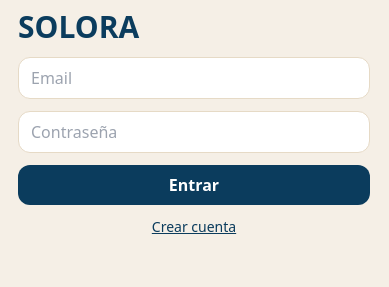
Test case: Login › muestra el error que devuelve Supabase
This screenshot has width=389, height=287.
Type "a@b.com" into the field with placeholder "Email" at (194, 78), box [18,57,370,99]
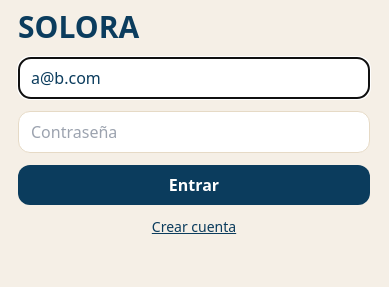
Type "x" into the password field with placeholder "Contraseña" at (194, 132), box [18,111,370,153]
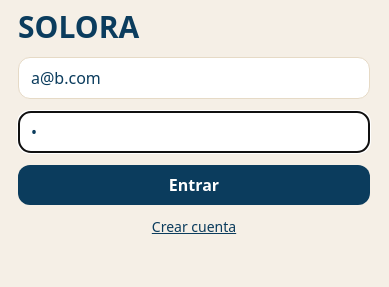
Click the button "Entrar" at (194, 185), box [18,165,370,205]
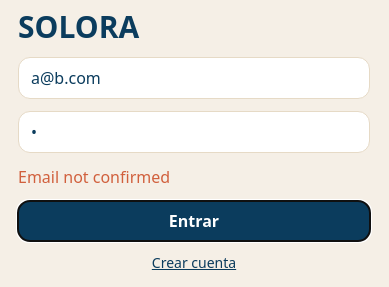
Now the text "Email not confirmed" is shown, box [18,166,170,188]
